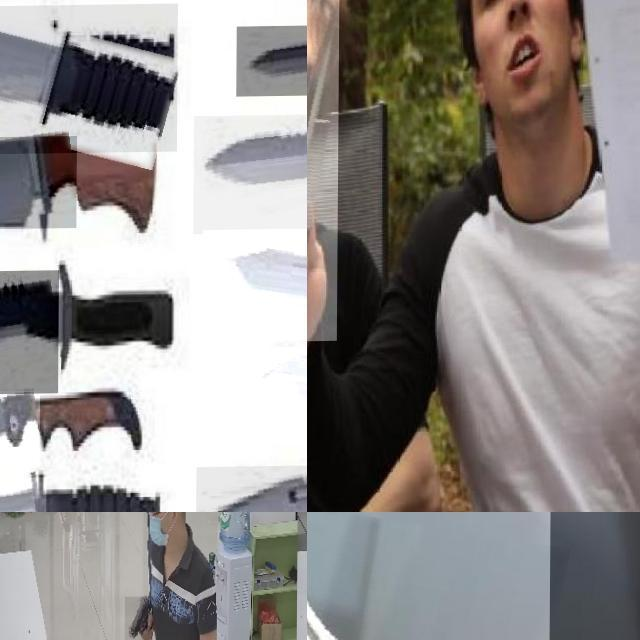-: (307, 512, 550, 640), (0, 4, 177, 156), (307, 0, 356, 343), (194, 115, 307, 235), (202, 228, 307, 343), (0, 270, 92, 395), (0, 136, 90, 230), (224, 347, 307, 447), (0, 391, 71, 469), (197, 465, 307, 512), (236, 25, 307, 97)
gun-knife-thesis - v11 Yolov5 augmented: (125, 597, 153, 640), (93, 512, 111, 529)
